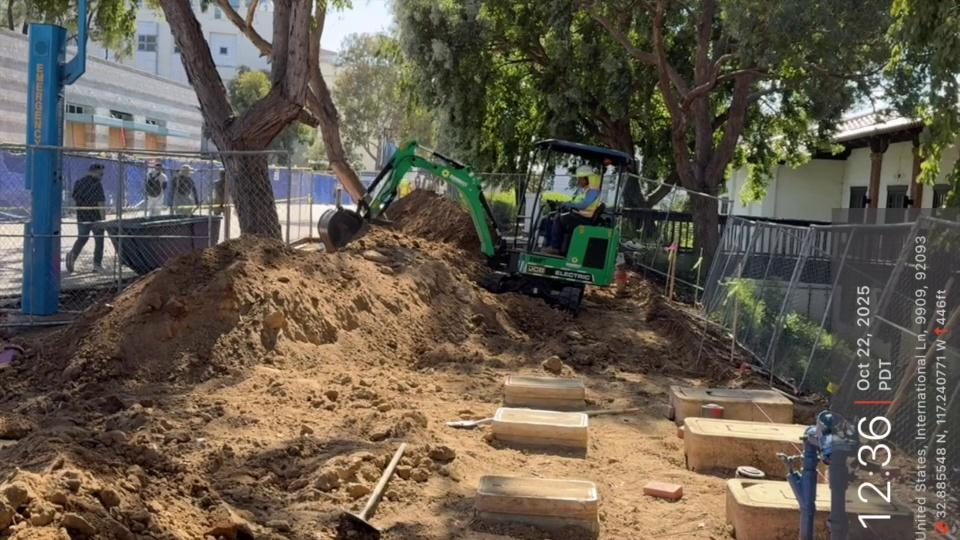Exacavator: (316, 136, 636, 317)
